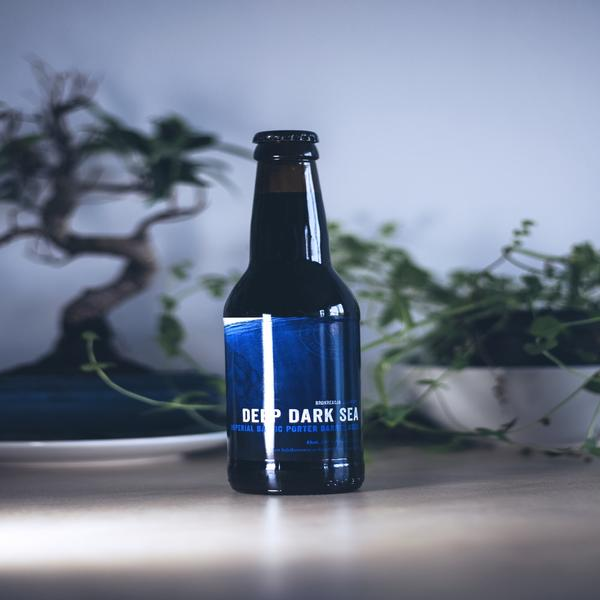tutuma: (214, 120, 370, 501)
